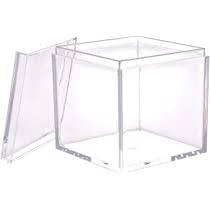cube: (56, 37, 210, 171)
